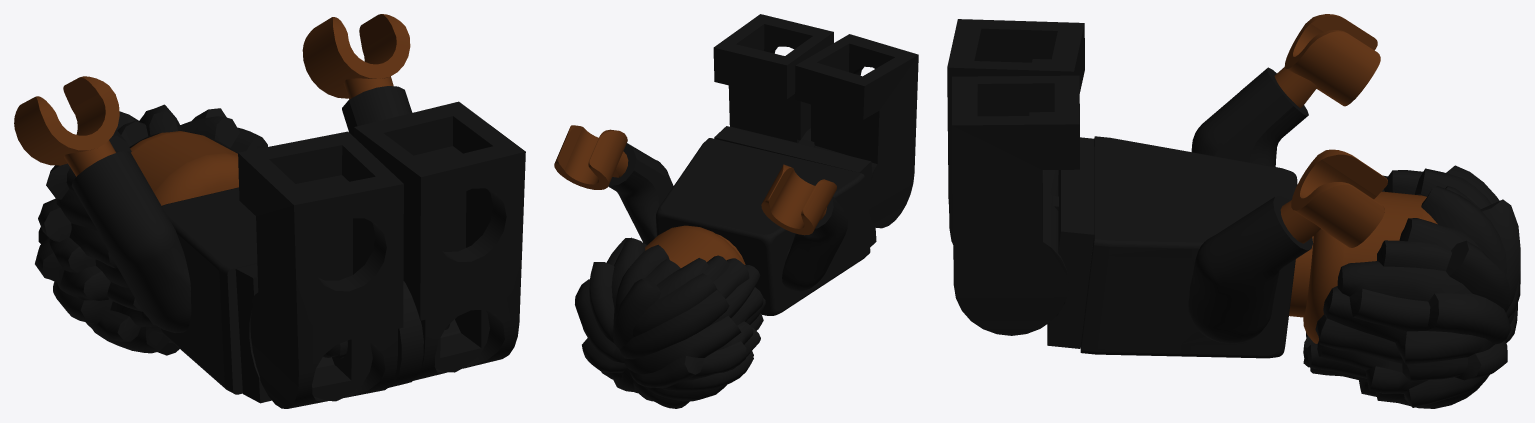
The model's file is lego.fbx.
3 renders of one model, left to right at view 1: azimuth 30°, elevation 25°; view 2: azimuth 150°, elevation 25°; view 3: azimuth 270°, elevation 25°, orthographic. The views are drawn at different scales.
Visible parts, largest first — view 1: part.008, part.009, part, part.002, part.001, part.003, part.006, part.007, part.005; view 2: part, part.002, part.008, part.009, part.006, part.005, part.003, part.001, part.007; view 3: part, part.002, part.009, part.005, part.008, part.006, part.003, part.001, part.007.
Boxes of the visible parts, bbox=[...] form: part.008: bbox=[238, 131, 403, 408]; part.009: bbox=[354, 101, 525, 380]; part: bbox=[35, 104, 267, 355]; part.002: bbox=[160, 187, 257, 394]; part.001: bbox=[72, 151, 191, 332]; part.003: bbox=[14, 76, 119, 176]; part.006: bbox=[302, 14, 410, 99]; part.007: bbox=[235, 263, 449, 403]; part.005: bbox=[342, 86, 412, 136]; part: bbox=[575, 225, 765, 408]; part.002: bbox=[656, 138, 870, 315]; part.008: bbox=[795, 34, 918, 228]; part.009: bbox=[713, 14, 833, 143]; part.006: bbox=[554, 125, 628, 189]; part.005: bbox=[608, 143, 673, 244]; part.003: bbox=[761, 164, 836, 235]; part.001: bbox=[782, 185, 847, 291]; part.007: bbox=[714, 126, 876, 247]; part: bbox=[1289, 165, 1520, 408]; part.002: bbox=[1080, 136, 1297, 358]; part.009: bbox=[952, 75, 1079, 335]; part.005: bbox=[1188, 195, 1313, 343]; part.008: bbox=[947, 19, 1084, 244]; part.006: bbox=[1280, 149, 1387, 247]; part.003: bbox=[1274, 14, 1380, 108]; part.001: bbox=[1191, 67, 1308, 166]; part.007: bbox=[1043, 137, 1094, 348].
Size of the model in its own units: 3583 by 2257 by 2527.
